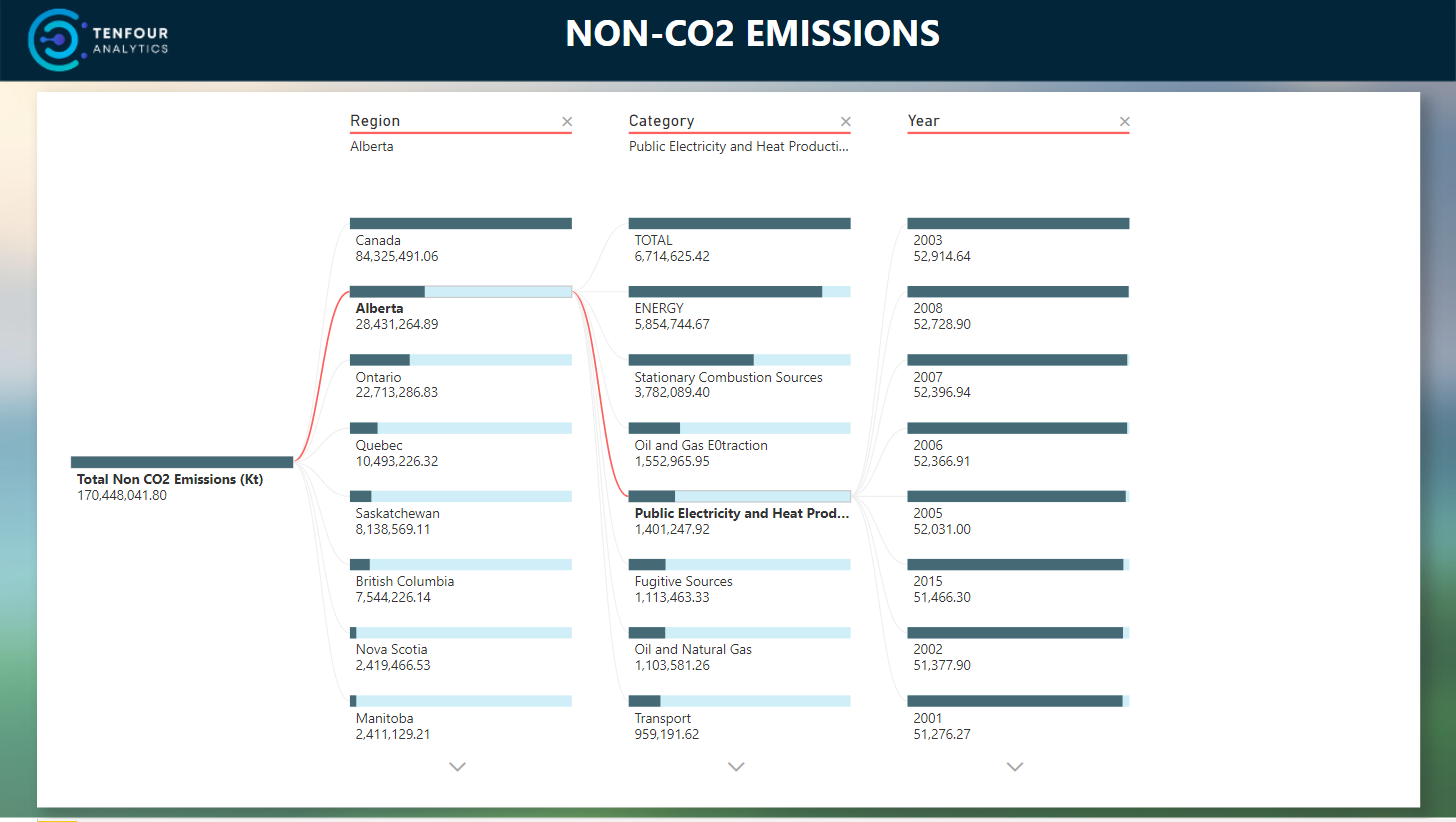

The page's visual inventory and layout, read from the dashboard file:
{"tool":"powerbi","page":{"name":"Details ","canvas":[1280,720],"ordinal":1},"visuals":[{"type":"textbox","box":[491.7,0,392.8,60.4],"z":0},{"type":"decompositionTreeVisual","fields":{"ExplainBy":["GHG_IPCC_Can_Prov_Terr.Region","GHG_IPCC_Can_Prov_Terr.Category","GHG_IPCC_Can_Prov_Terr.Year"],"Analyze":["Sum(GHG_IPCC_Can_Prov_Terr.Total CO2eq)"]},"box":[32.2,81.2,1215.5,629.3],"z":1000}]}

Visuals, with their boxes in screenshot pixels (x1, y1, x2, y2), scaled from the page's 1280x720 canvas onto the 1456x822 screenshot:
textbox: pyautogui.locateOnScreen(559, 0, 1006, 69)
decompositionTreeVisual - GHG_IPCC_Can_Prov_Terr.Region x GHG_IPCC_Can_Prov_Terr.Category: pyautogui.locateOnScreen(37, 93, 1419, 811)
